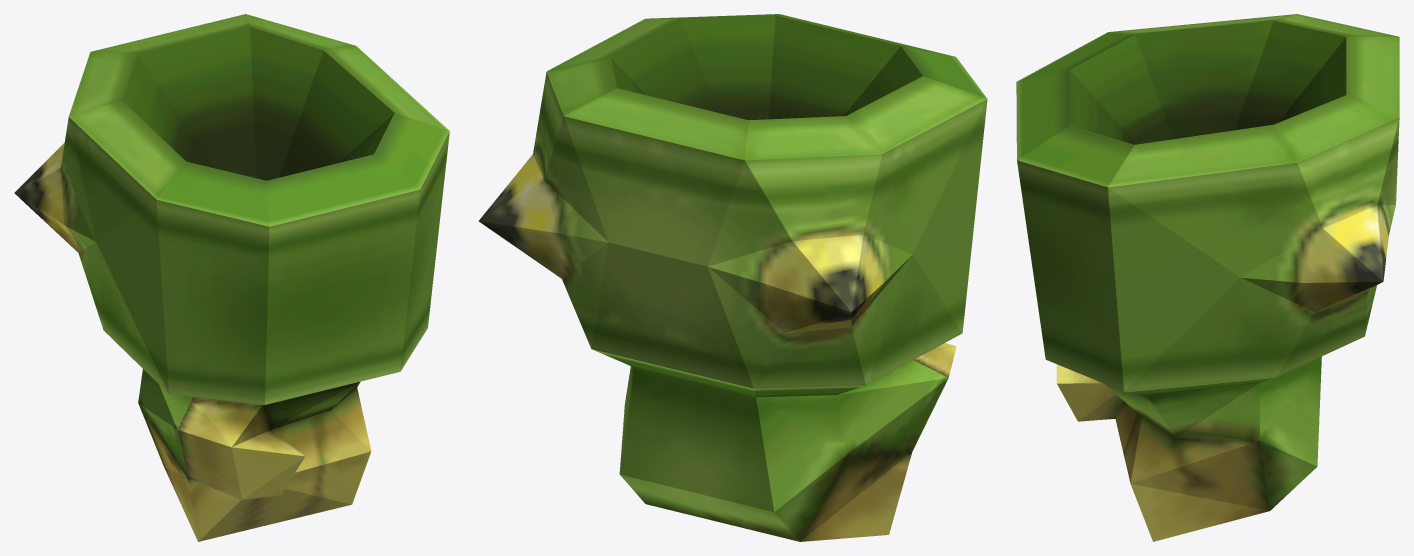
File: Panda_wormGauntlet_left.obj
The picture shows the model from 3 angles, left to right: view 1: azimuth 30°, elevation 25°; view 2: azimuth 150°, elevation 25°; view 3: azimuth 270°, elevation 25°; orthographic projection. The views are drawn at different scales.
Visible parts, largest first — view 1: Panda_wormGauntlet_tri [left]; view 2: Panda_wormGauntlet_tri [left]; view 3: Panda_wormGauntlet_tri [left].
Part boxes in pixels (bbox=[...]): Panda_wormGauntlet_tri [left]: bbox=[14, 14, 449, 541]; Panda_wormGauntlet_tri [left]: bbox=[479, 14, 987, 541]; Panda_wormGauntlet_tri [left]: bbox=[1016, 14, 1399, 541].
Bounding box in the file's own units: 0.1516 × 0.1878 × 0.1479.
Materials: 1 (1 with a texture image).
